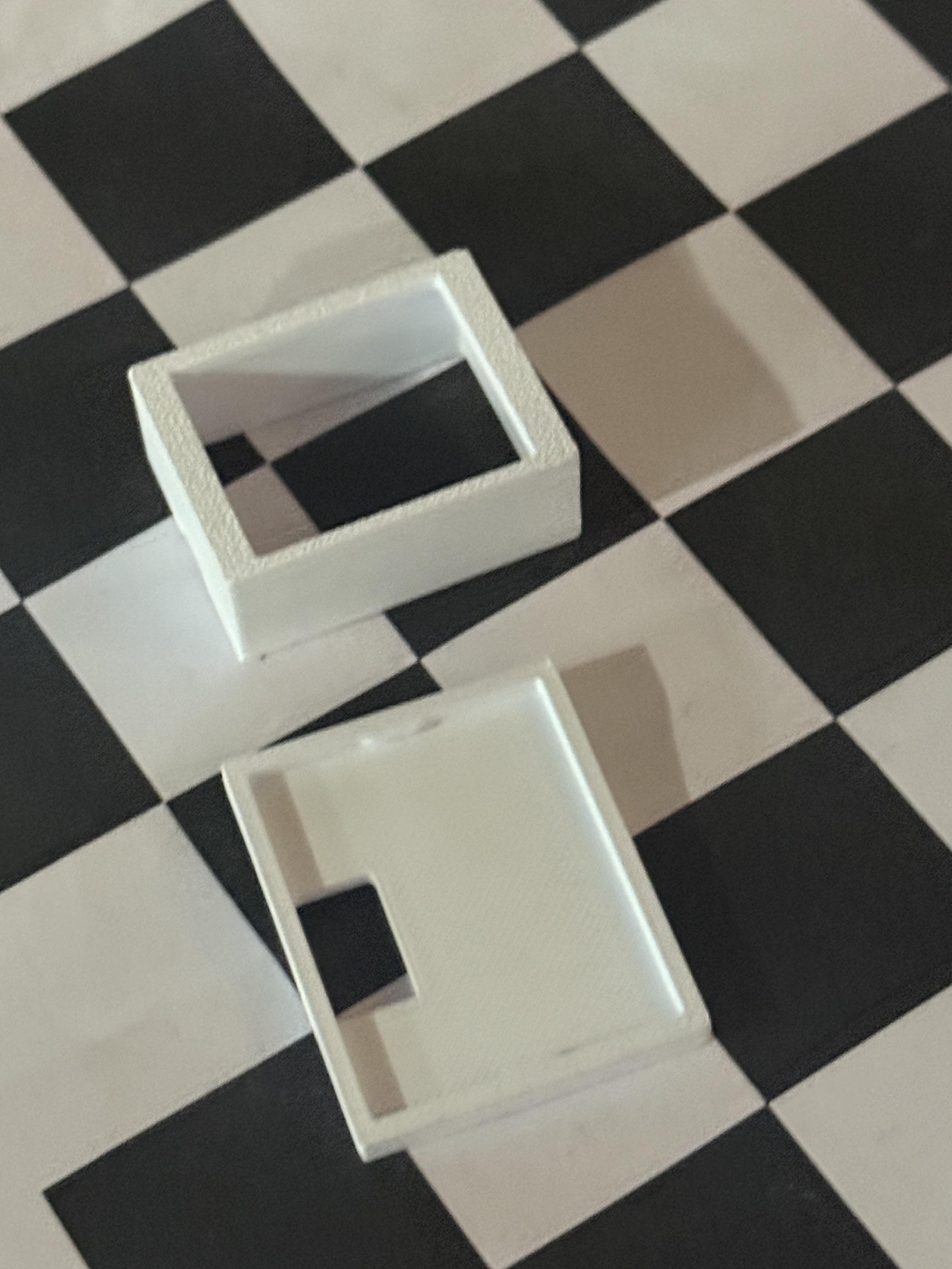enclosure: (220, 659, 715, 1162), (127, 248, 583, 663)
